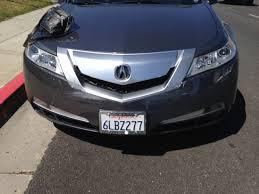bonnet-dent: (37, 0, 114, 48)
